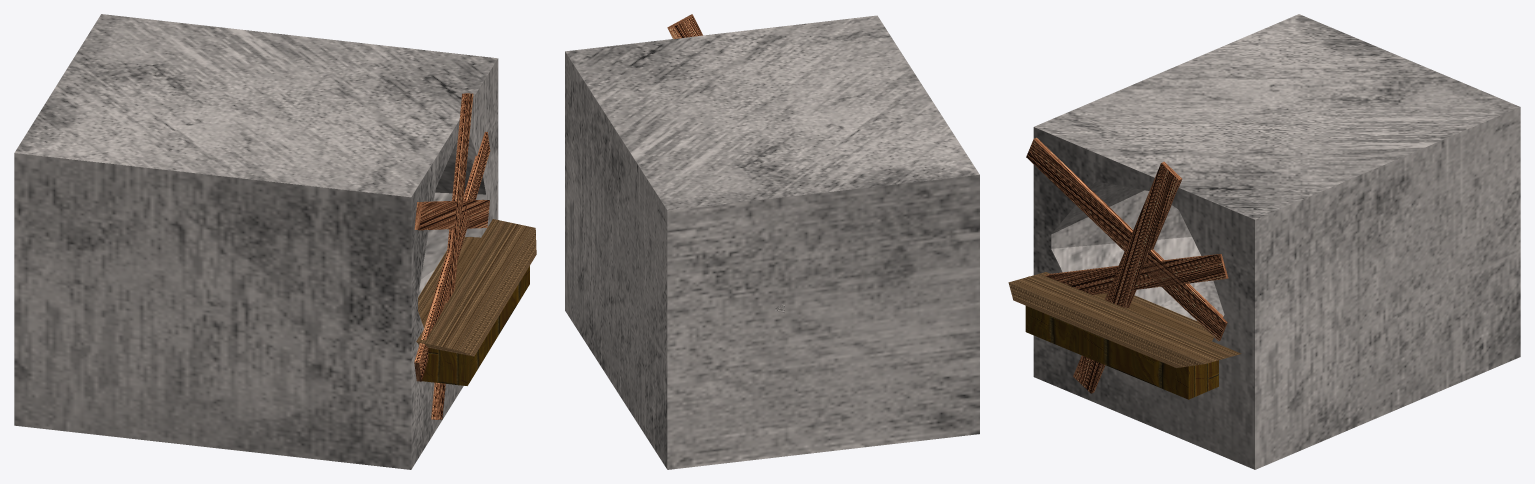
File: Shop.fbx
3 views of the same model, side by side, from view 1: azimuth 30°, elevation 25°; view 2: azimuth 150°, elevation 25°; view 3: azimuth 270°, elevation 25° (orthographic). The views are drawn at different scales.
Visible parts, largest first — view 1: shop, shopStop1, shopStop, plank1, plank3, plank2, plank4; view 2: shop; view 3: shop, shopStop1, shopStop, plank3, plank2, plank1, plank4.
Part boxes in pixels (x1,y1,x2,y2): shop: [14, 14, 498, 469]; shopStop1: [416, 219, 536, 356]; shopStop: [422, 266, 529, 385]; plank1: [414, 131, 490, 381]; plank3: [414, 199, 489, 230]; plank2: [436, 99, 472, 414]; plank4: [431, 93, 473, 419]; shop: [565, 15, 979, 469]; shop: [1033, 14, 1520, 469]; shopStop1: [1008, 272, 1241, 367]; shopStop: [1025, 306, 1218, 399]; plank3: [1026, 137, 1227, 341]; plank2: [1075, 167, 1176, 389]; plank1: [1028, 254, 1228, 294]; plank4: [1073, 161, 1182, 393].
Size of the model in its own units: 2142 by 1282 by 2202.
Materials: 4 (4 with a texture image).
